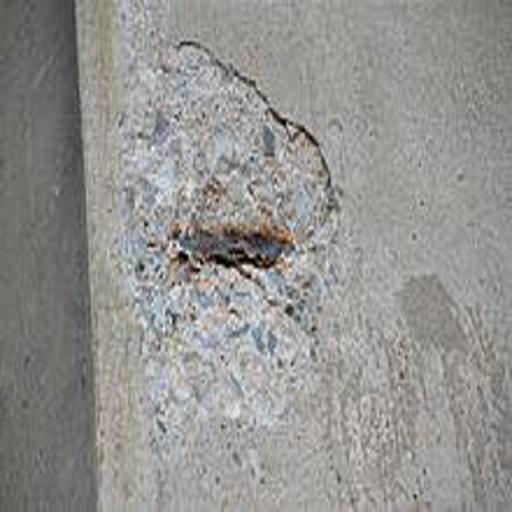spalling: (111, 30, 360, 441)
